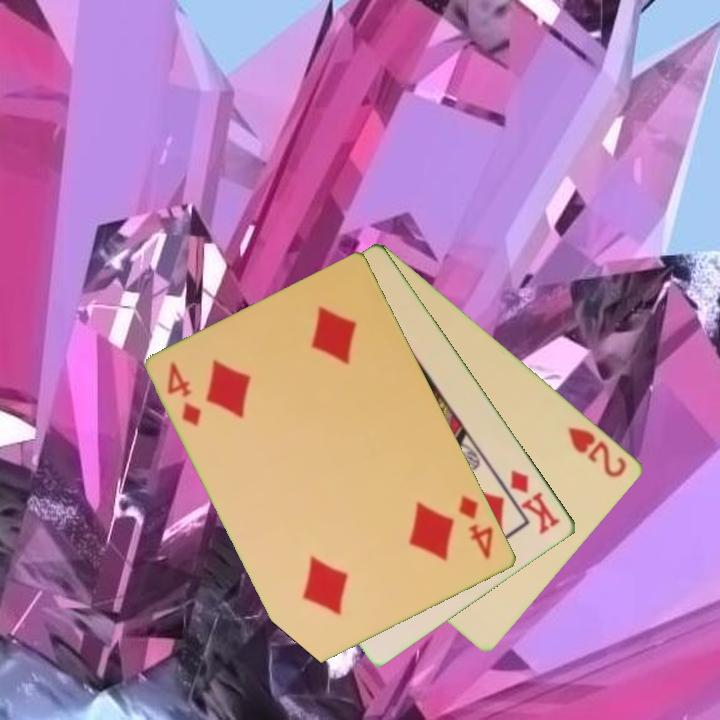2h: (564, 423, 630, 481)
4d: (455, 491, 497, 563), (164, 358, 205, 429)
Kd: (507, 466, 564, 538)
